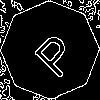P: (25, 25, 81, 81)
